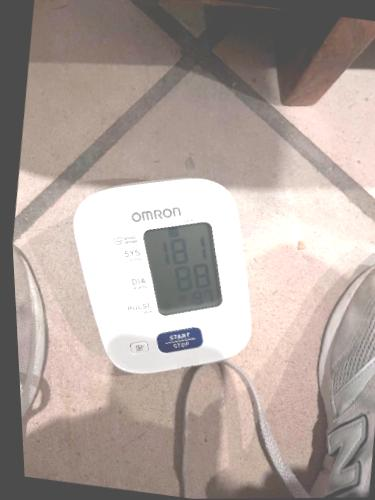bpm: (140, 220, 223, 318)
